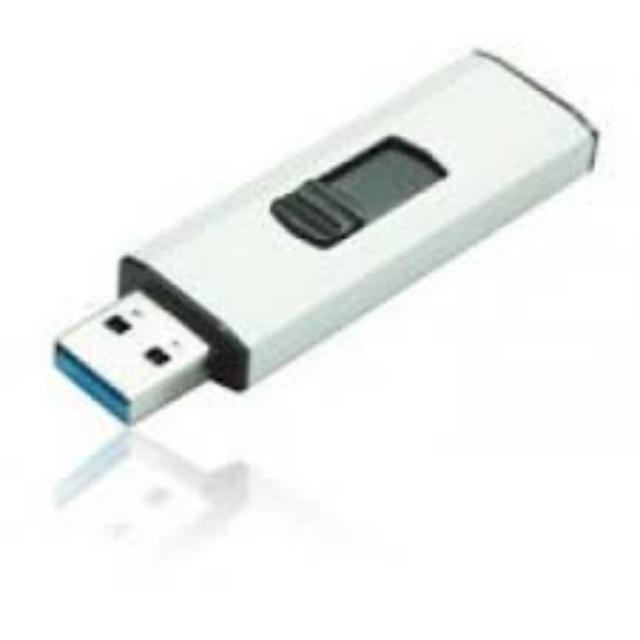USB-Flash-Drive: (47, 29, 609, 480)
